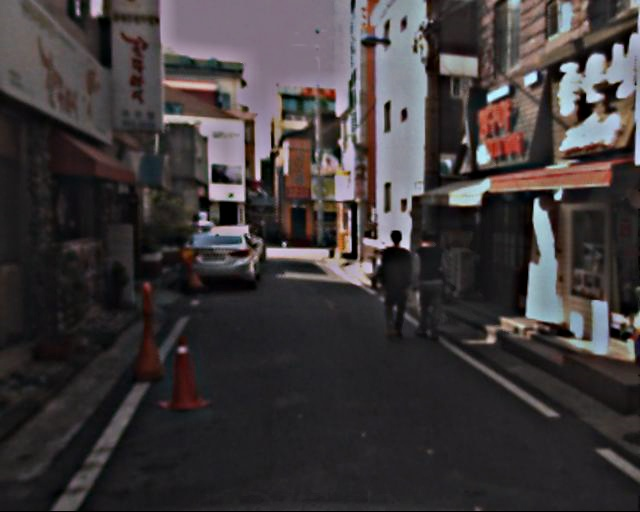person: (376, 230, 422, 343), (412, 231, 458, 342)
